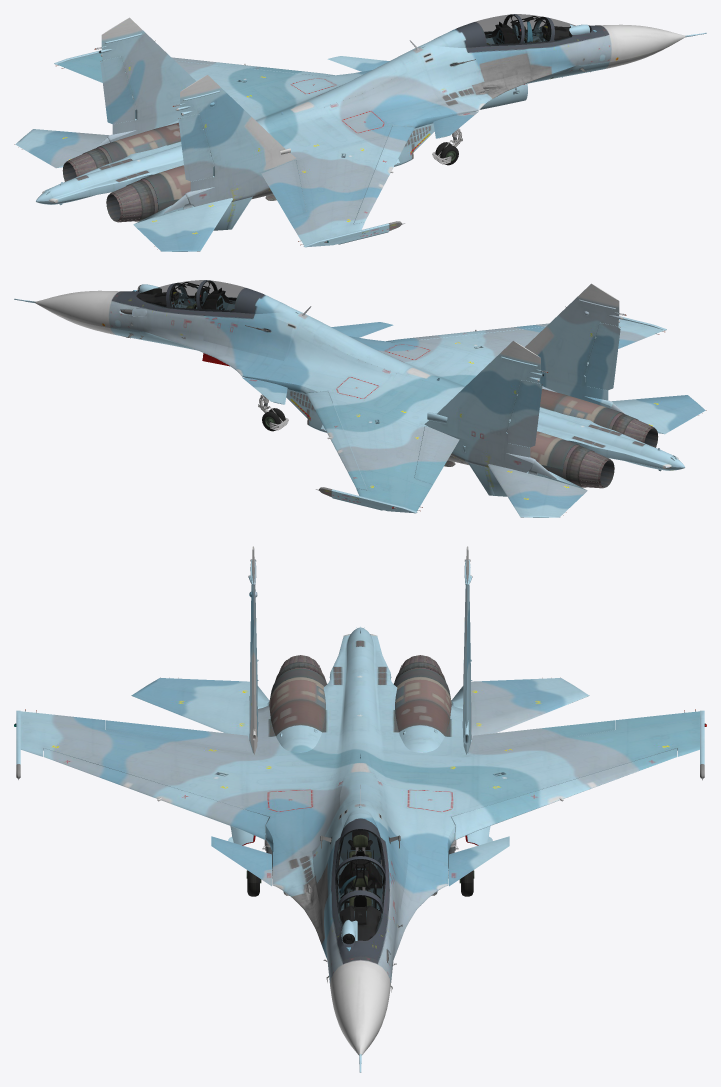
The model's file is su30_split.glb.
3 views of the same model, one above another, from view 1: azimuth 30°, elevation 25°; view 2: azimuth 150°, elevation 25°; view 3: azimuth 270°, elevation 25° (orthographic). The views are drawn at different scales.
Visible parts, largest first — view 1: Body, Elevator_R, Elevator_L, Canopy, Rudder_L, Rudder_R, Nozzle_R, Airbrake, Aileron_R, Nozzle_L, Canard_R, GearDoor_Nose (+1 smaller); view 2: Body, Elevator_L, Canopy, Elevator_R, Rudder_R, Rudder_L, Nozzle_L, Airbrake, Aileron_L, Nozzle_R, Canard_L, Canard_R; view 3: Body, Elevator_R, Elevator_L, Canopy, Aileron_R, Aileron_L, Canard_L, Canard_R, Airbrake.
Part boxes in pixels (x1,y1,x2,y2): Body: (14, 14, 706, 251); Elevator_R: (133, 194, 232, 251); Elevator_L: (15, 129, 109, 168); Canopy: (475, 14, 575, 44); Rudder_L: (100, 56, 136, 124); Rudder_R: (178, 114, 214, 181); Nozzle_R: (106, 179, 157, 222); Airbrake: (305, 58, 406, 112); Aileron_R: (261, 160, 306, 218); Nozzle_L: (62, 147, 112, 181); Canard_R: (433, 111, 478, 138); GearDoor_Nose: (480, 84, 527, 109); Body: (14, 280, 706, 517); Elevator_L: (488, 460, 587, 517); Canopy: (137, 280, 245, 310); Elevator_R: (611, 395, 705, 434); Rudder_R: (584, 322, 620, 390); Rudder_L: (506, 380, 542, 447); Nozzle_L: (563, 445, 614, 488); Airbrake: (314, 324, 415, 378); Aileron_L: (414, 426, 459, 484); Nozzle_R: (608, 413, 658, 447); Canard_L: (242, 377, 287, 404); Canard_R: (331, 322, 393, 337); Body: (14, 546, 706, 1072); Elevator_R: (131, 678, 269, 739); Elevator_L: (451, 678, 589, 739); Canopy: (335, 829, 385, 940); Aileron_R: (106, 720, 252, 754); Aileron_L: (468, 720, 614, 754); Canard_L: (449, 836, 509, 886); Canard_R: (211, 836, 271, 886); Airbrake: (339, 772, 381, 809).
Size of the model in its own units: 226 by 63.4 by 148.
6 materials, 2 textured.
